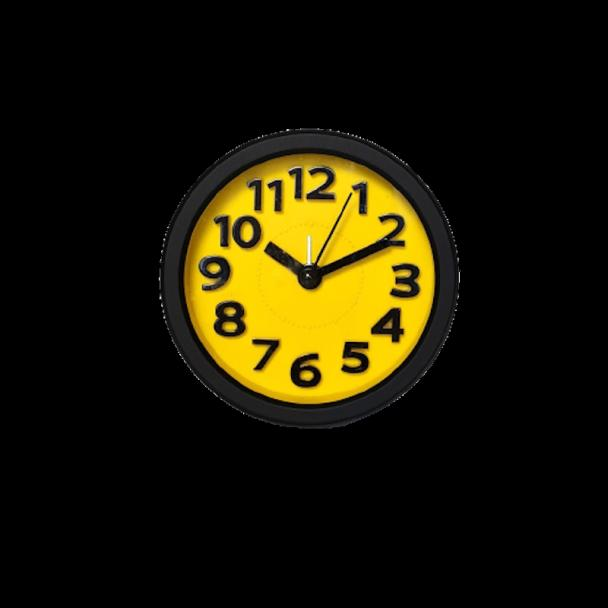Jam: (156, 130, 460, 432)
